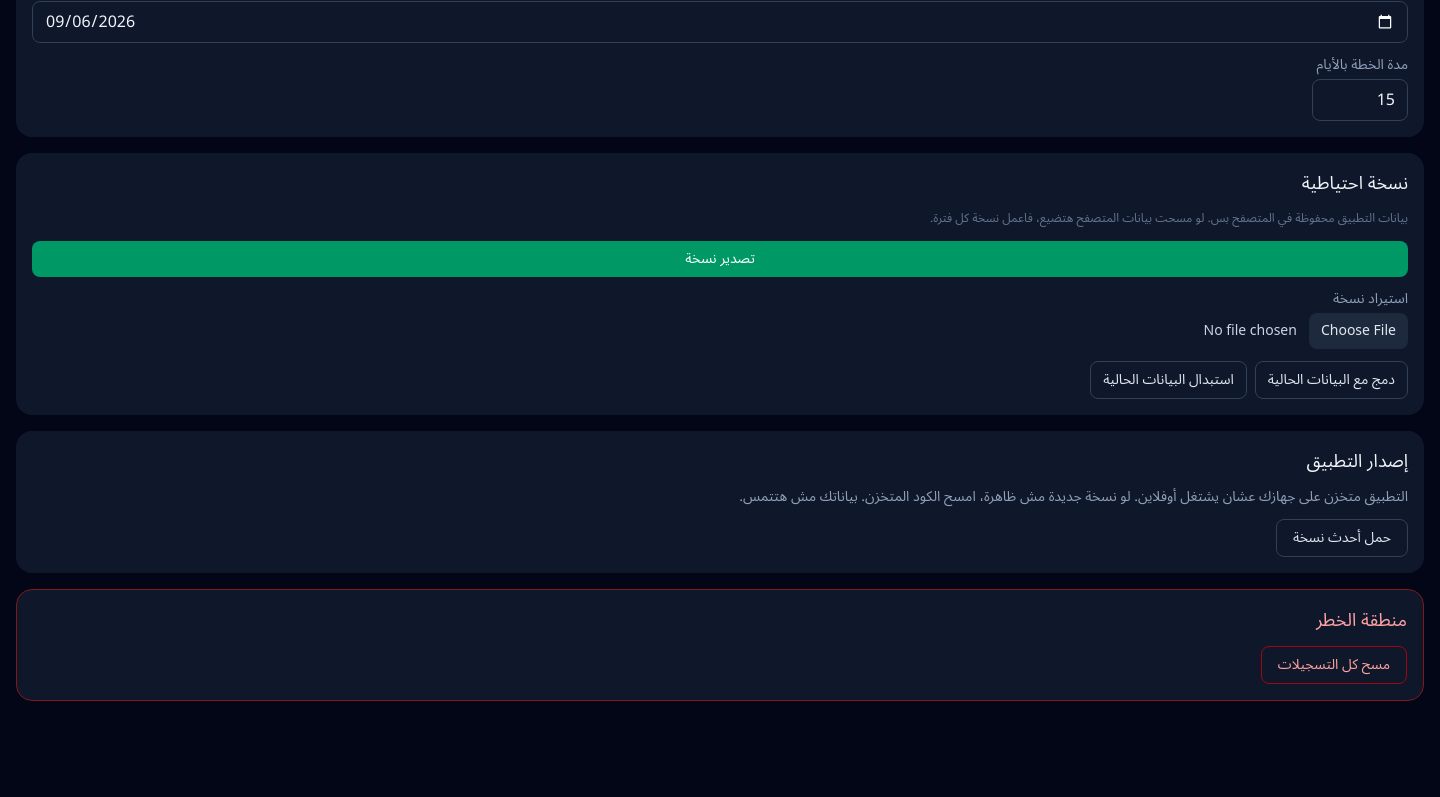
Test: SettingsScreen › deletes the logs once the deletion is confirmed
(page scrolled)
Click the button "مسح كل التسجيلات".
click(1334, 664)  # box [1261,646,1407,684]
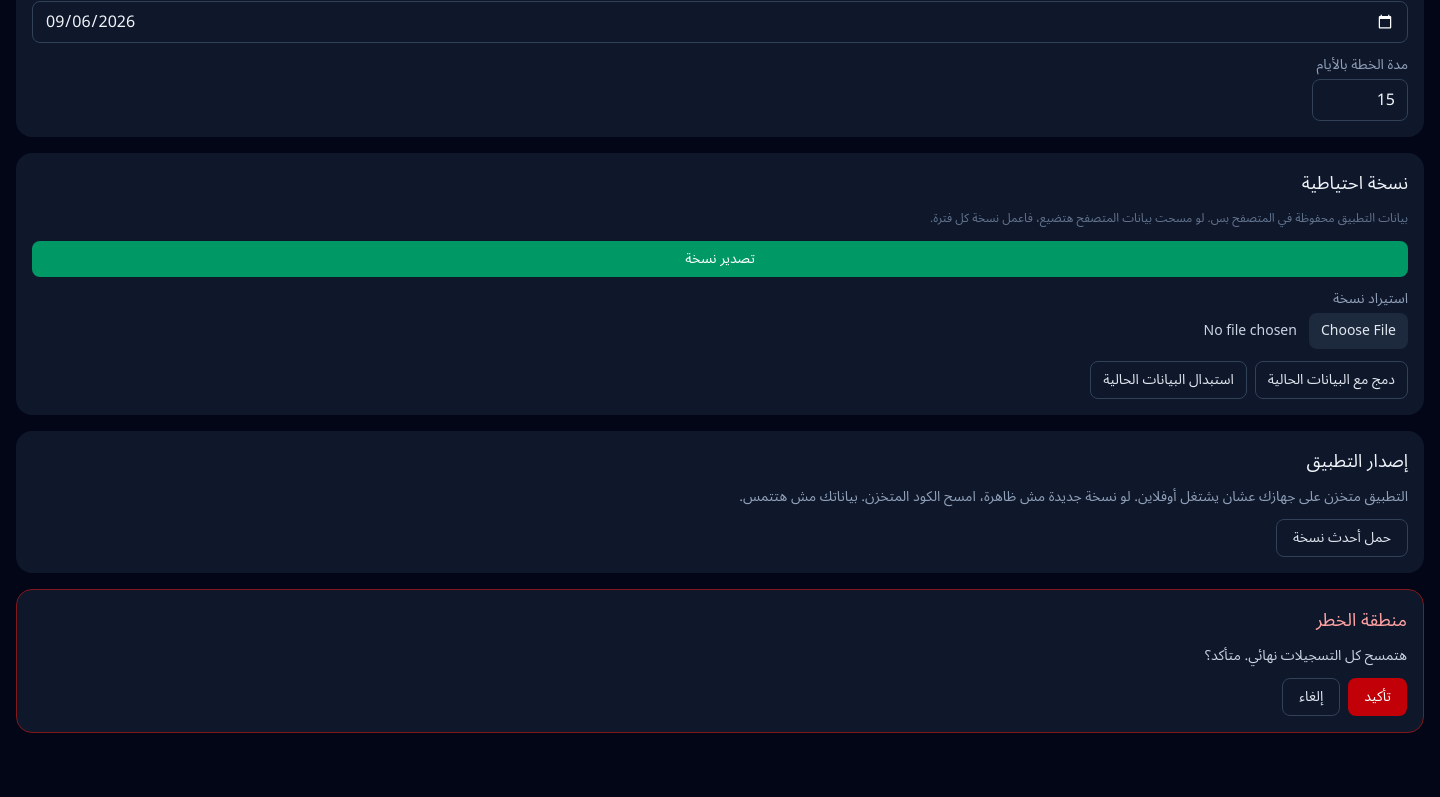
Click the button "تأكيد".
click(1378, 696)  # box [1348,678,1407,716]
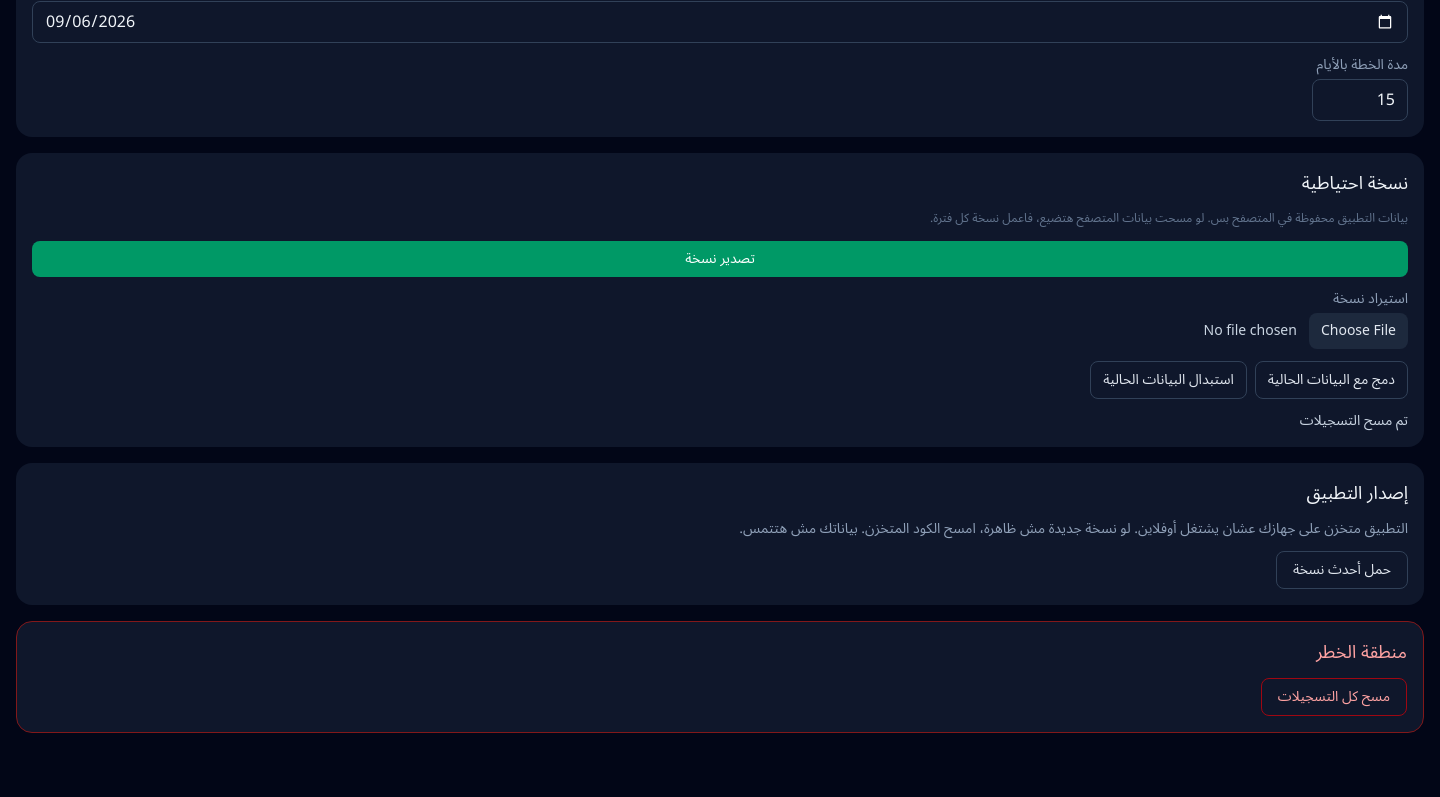
Result: the text "تم مسح التسجيلات" is shown at [1300,406,1408,434]
